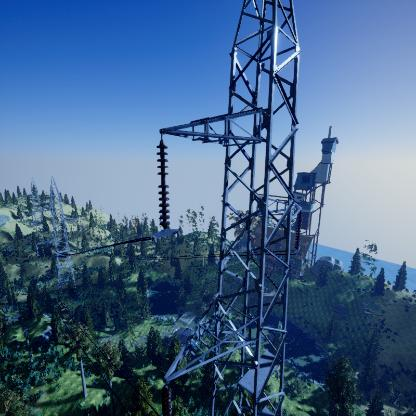insulator: (156, 142, 171, 230), (294, 212, 302, 250)
